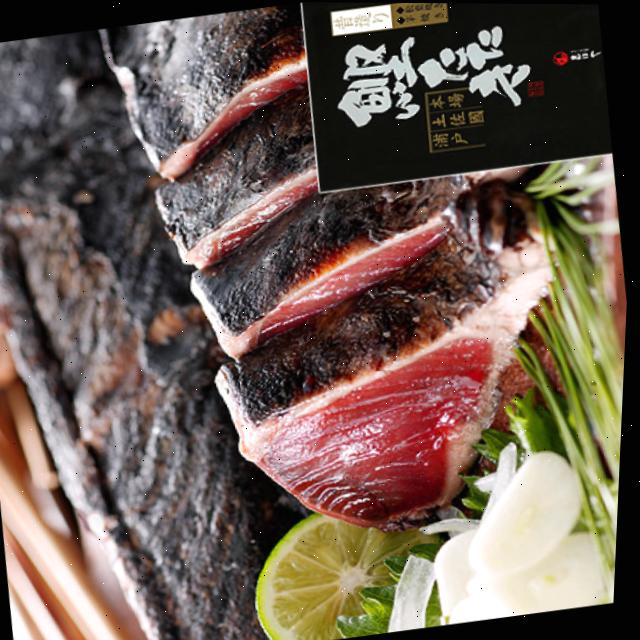熟制海鲜: (164, 182, 593, 555)
